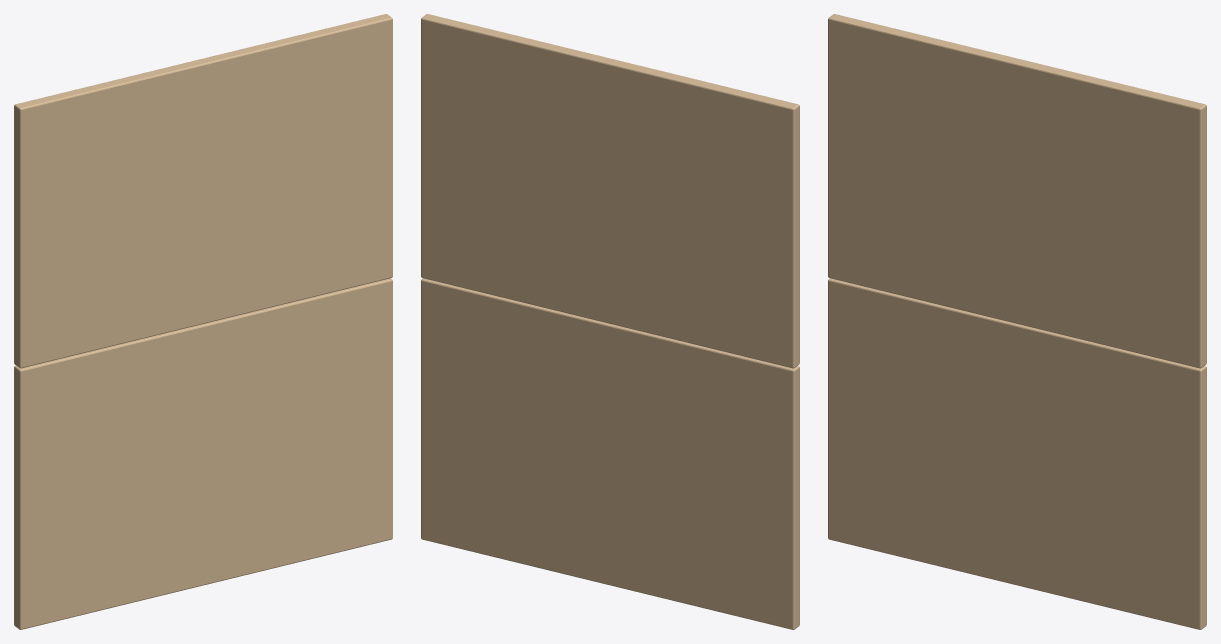
Rendered from DRAWERS_2_600x800.glb.
3 renders of one model, left to right at view 1: azimuth 30°, elevation 25°; view 2: azimuth 150°, elevation 25°; view 3: azimuth 330°, elevation 25°, orthographic.
Parts seen in each view (by area): view 1: front_panel_01, front_panel_02; view 2: front_panel_01, front_panel_02; view 3: front_panel_01, front_panel_02.
Part boxes in pixels (box(x1,y1,x2,y2)): front_panel_01: box(14, 14, 392, 368); front_panel_02: box(14, 278, 392, 629); front_panel_01: box(421, 14, 799, 368); front_panel_02: box(421, 278, 799, 629); front_panel_01: box(828, 14, 1206, 368); front_panel_02: box(828, 278, 1206, 629).
Size of the model in its own units: 0.596 by 0.796 by 0.018.
